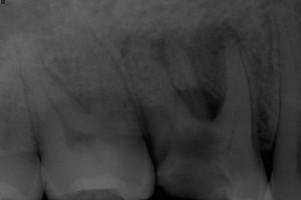Dental Caries: (147, 18, 242, 122), (119, 33, 131, 59)
